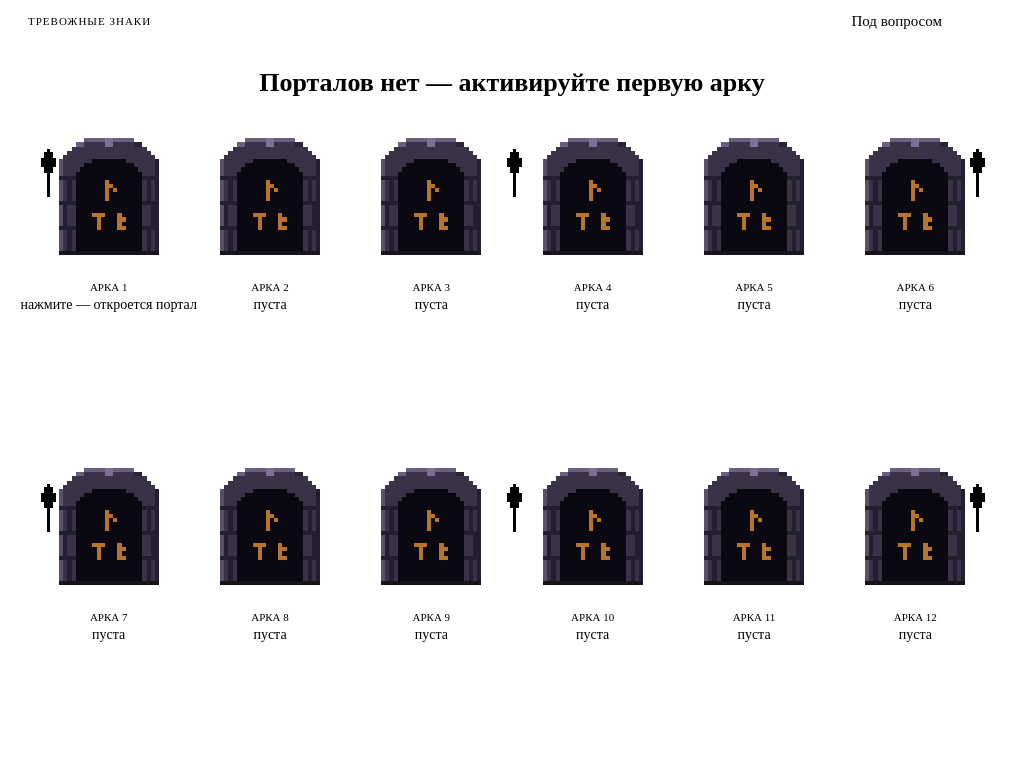
Test: Зал: пустая лаборатория › клик по пустой арке открывает портал в первой свободной арке
The image size is (1024, 768).
Click the button named "Открыть портал в арке 5": (754, 196) top-left (704, 138), bottom-right (804, 255)
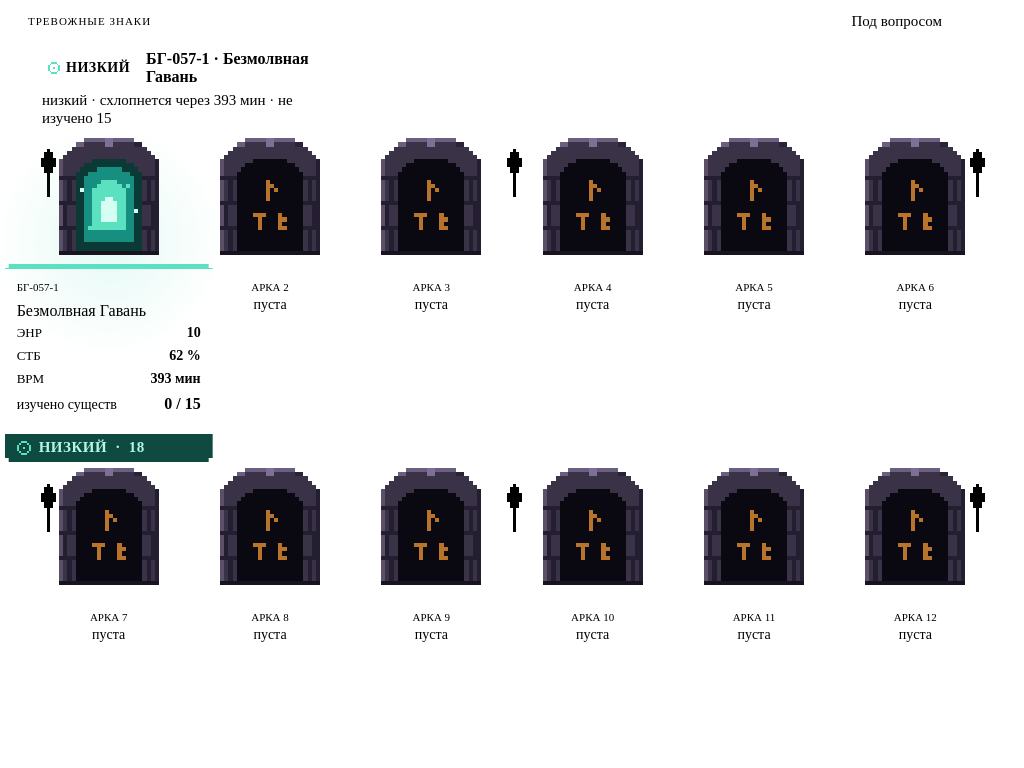
Expected: the text "Порталов нет — активируйте первую арку" is gone
Expected: the number of buttons named "Открыть портал в арке 2" is 11
